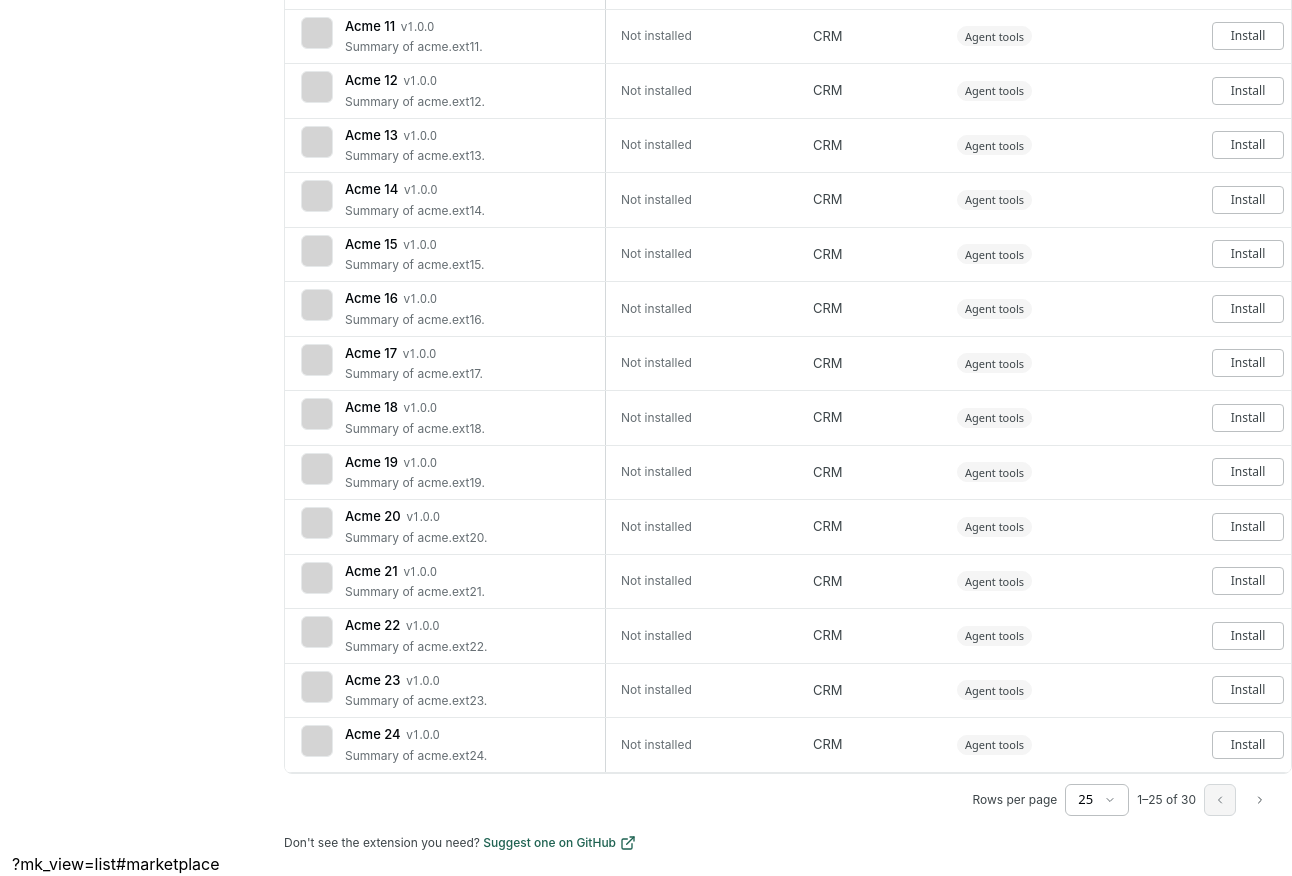
Test: the table pages by its own Rows per page, 25 or 50
(page scrolled)
Expected: the text "1–25 of 30" is shown, left=1137, top=791, right=1196, bottom=809
Click the dropdown named "Rows per page".
click(1097, 800)  # box left=1065, top=784, right=1129, bottom=816
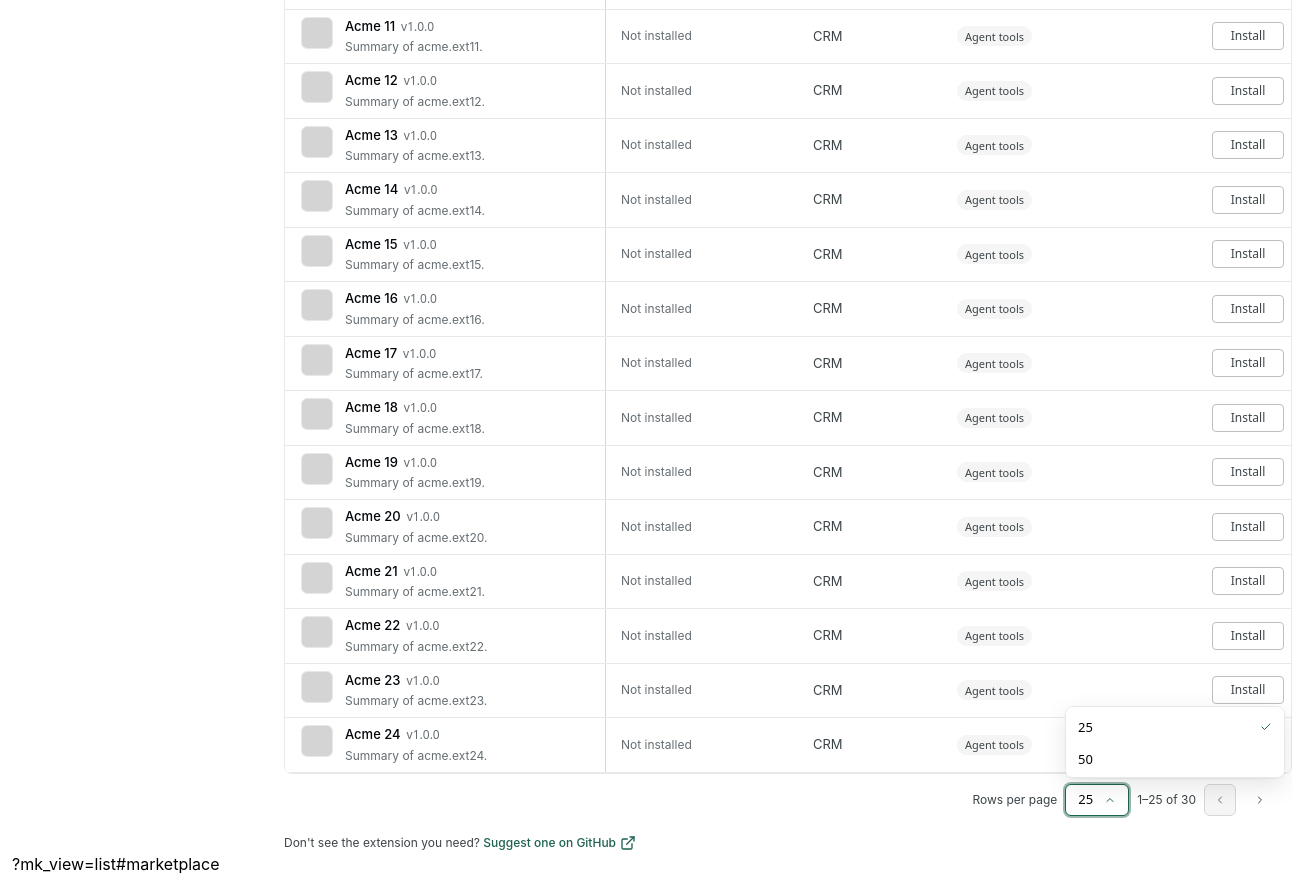
Click the option "50".
click(1175, 759)  # box left=1070, top=743, right=1280, bottom=775
(page scrolled)
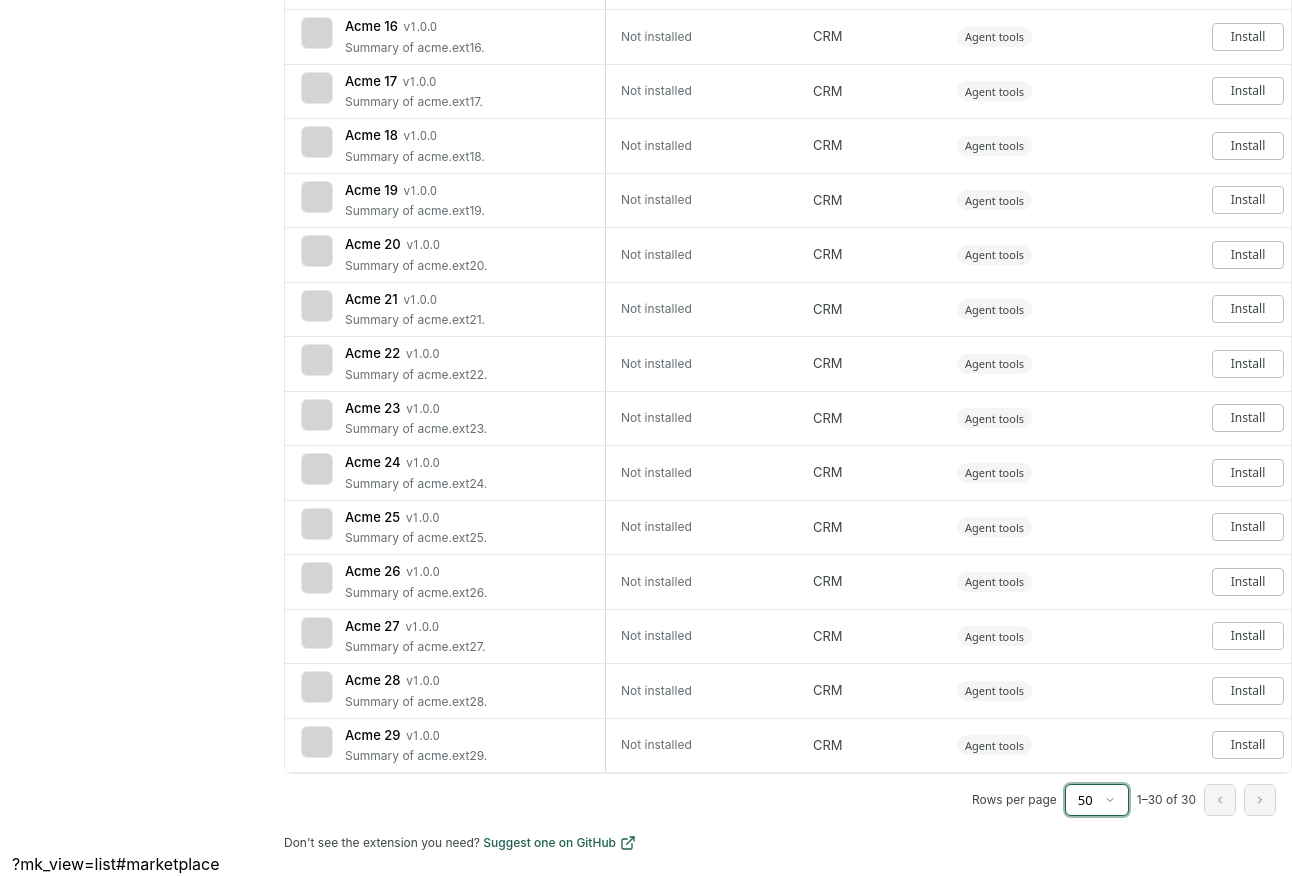
Expected: the text "1–30 of 30" is shown, left=1137, top=791, right=1196, bottom=809
